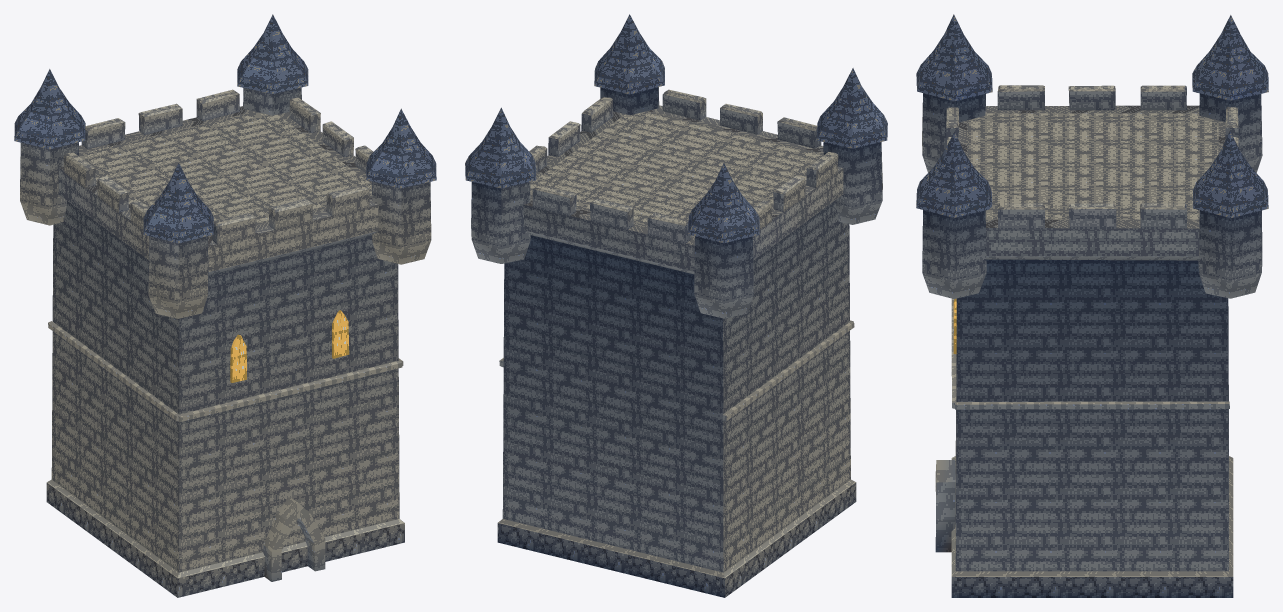
The model's file is cst.keep.glb.
The picture shows the model from 3 angles, left to right: view 1: azimuth 30°, elevation 25°; view 2: azimuth 150°, elevation 25°; view 3: azimuth 270°, elevation 25°; orthographic projection. The views are drawn at different scales.
Parts seen in each view (by area): view 1: kit_walls, kit_top, kit_detail; view 2: kit_walls, kit_top, kit_detail; view 3: kit_walls, kit_top, kit_detail.
Boxes of the visible parts, x1=… form: kit_walls: x1=46, y1=201, x2=404, y2=597; kit_top: x1=14, y1=14, x2=436, y2=318; kit_detail: x1=48, y1=310, x2=403, y2=581; kit_walls: x1=497, y1=200, x2=856, y2=597; kit_top: x1=465, y1=14, x2=887, y2=318; kit_detail: x1=499, y1=320, x2=854, y2=421; kit_walls: x1=951, y1=259, x2=1233, y2=597; kit_top: x1=916, y1=14, x2=1268, y2=298; kit_detail: x1=935, y1=298, x2=1229, y2=552.
Size of the model in its own units: 13.33 by 18.81 by 12.9.
6 materials, 6 textured.
